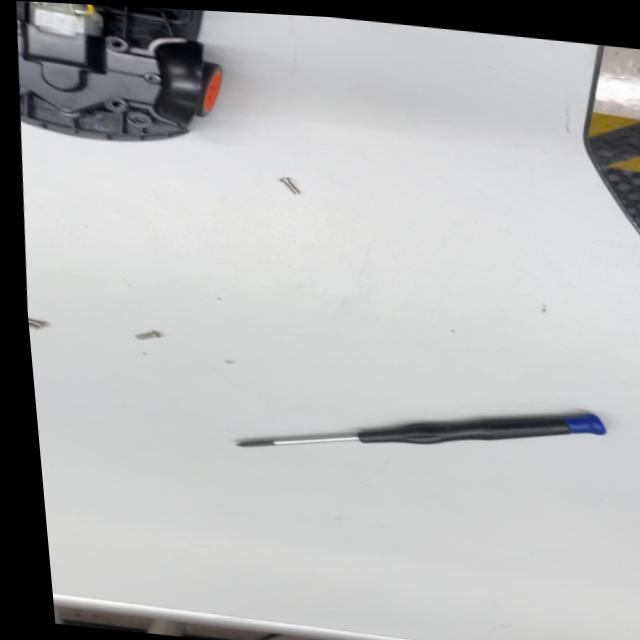screw: (261, 169, 317, 203), (122, 323, 174, 348)
screw_driver: (220, 374, 614, 489)
